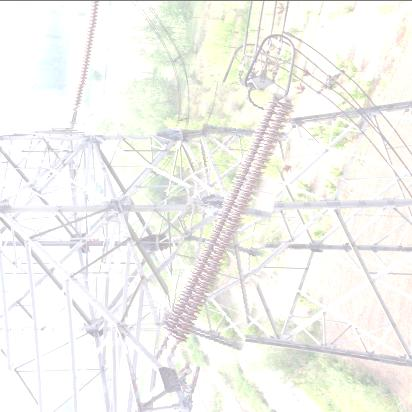insulator: (170, 82, 284, 372), (70, 1, 103, 112)
